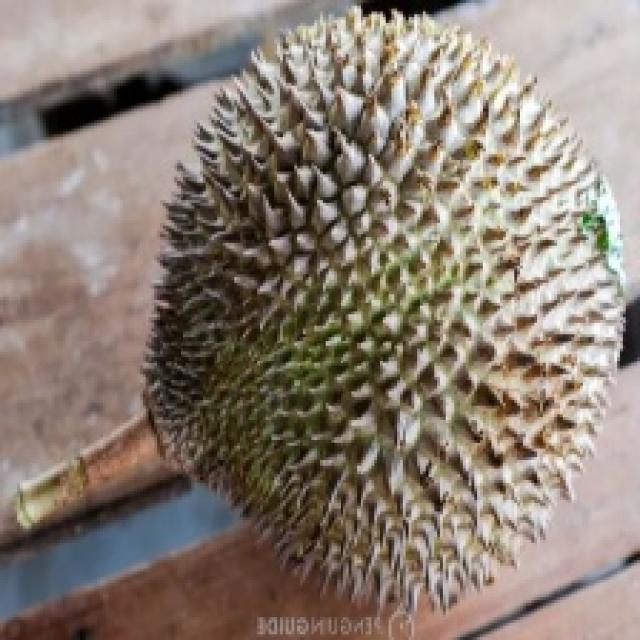d175: (114, 9, 626, 618)
